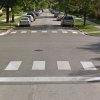Crosswalk: (4, 52, 99, 85)
